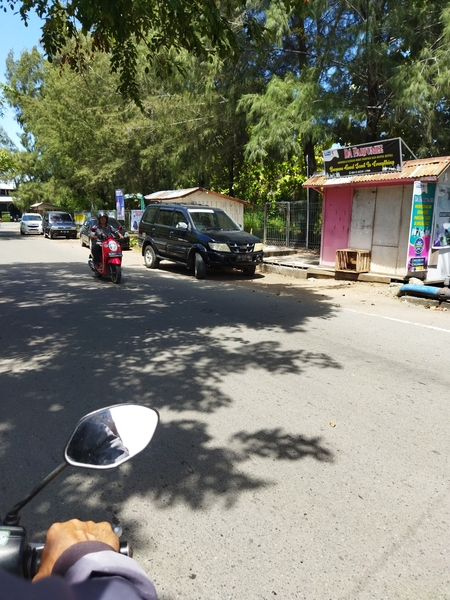car: (138, 201, 269, 284), (41, 208, 80, 244), (19, 209, 42, 241)
motorcycle: (87, 234, 130, 285)
person: (89, 209, 120, 269)
